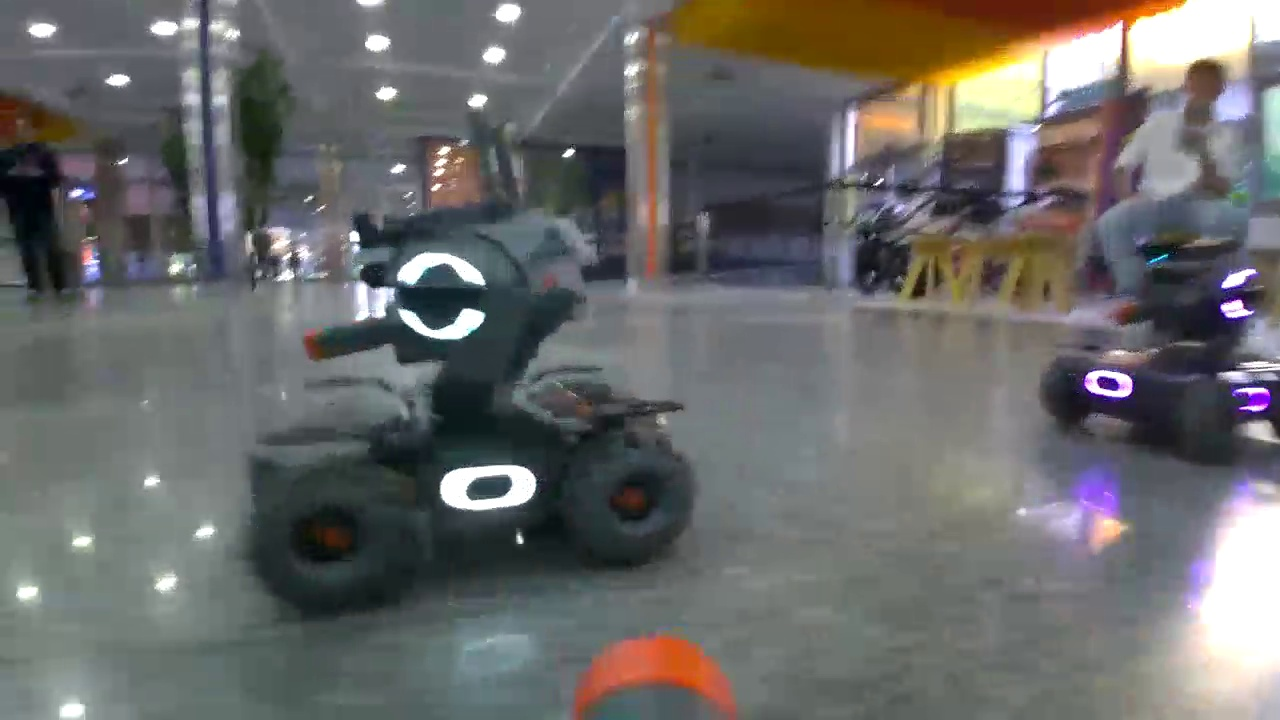robot: (250, 225, 700, 600), (1040, 245, 1280, 450)
